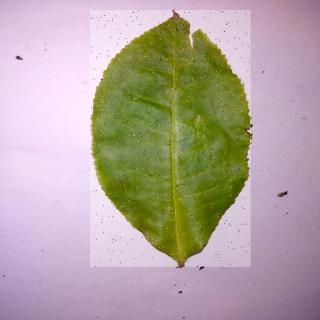Anthracnose: (92, 12, 253, 269)
